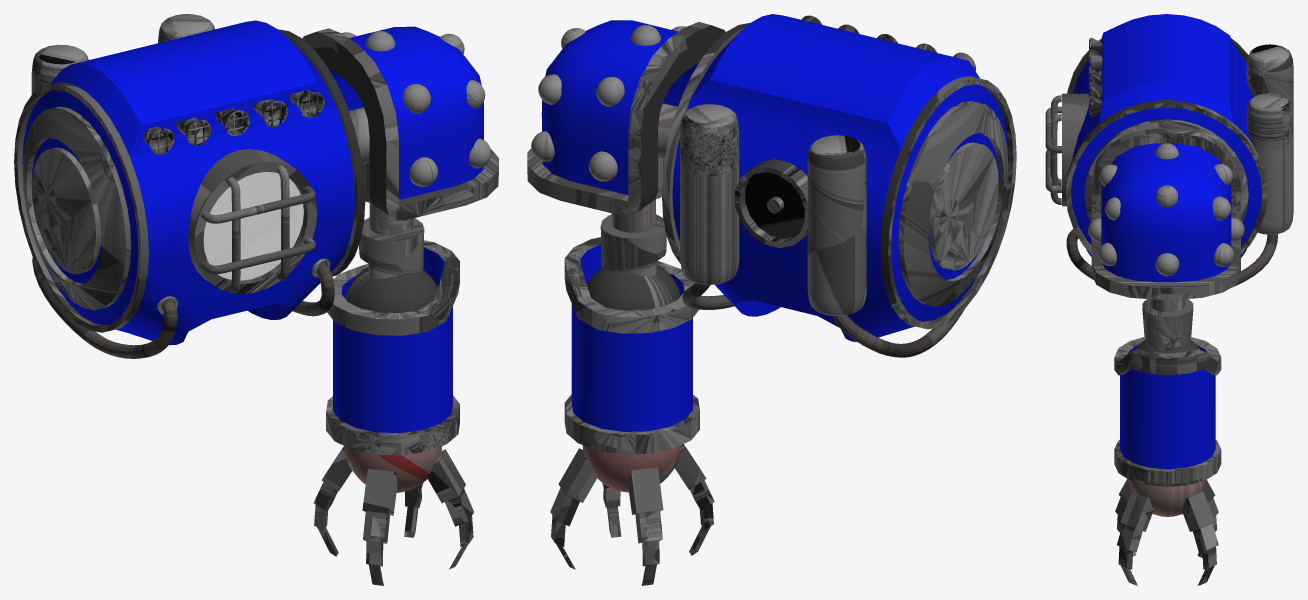
File: GarbageCanTop.fbx
3 renders of one model, left to right at view 1: azimuth 30°, elevation 25°; view 2: azimuth 150°, elevation 25°; view 3: azimuth 270°, elevation 25°, orthographic. The views are drawn at different scales.
Visible parts, largest first — view 1: Body, L.Shoulder, L.Wrist, Viewport, Viewport Bars, L.Elbow, L.Finger2, R.Cable, L.Palm, L.Finger1, L.Finger3, R.Tank (+5 smaller); view 2: Body, L.Shoulder, L.Wrist, R.Tank, L.Tank, PressureGauge, L.Elbow, L.Finger3, L.Palm, L.Finger4, R.Cable, L.Finger2 (+4 smaller); view 3: L.Shoulder, Body, L.Wrist, L.Tank, R.Tank, L.Elbow, L.Finger4, L.Finger1, Viewport, L.Palm, Viewport Bars, L.Cable (+3 smaller).
Boxes of the visible parts, x1=… form: Body: x1=14, y1=20, x2=365, y2=345; L.Shoulder: x1=302, y1=26, x2=498, y2=220; L.Wrist: x1=326, y1=240, x2=459, y2=455; Viewport: x1=188, y1=149, x2=317, y2=293; Viewport Bars: x1=200, y1=165, x2=315, y2=292; L.Elbow: x1=359, y1=217, x2=424, y2=278; L.Finger2: x1=362, y1=468, x2=397, y2=585; R.Cable: x1=32, y1=257, x2=177, y2=358; L.Palm: x1=344, y1=446, x2=442, y2=492; L.Finger1: x1=427, y1=449, x2=473, y2=569; L.Finger3: x1=313, y1=446, x2=352, y2=556; R.Tank: x1=31, y1=44, x2=88, y2=94; Body: x1=662, y1=14, x2=1016, y2=341; L.Shoulder: x1=527, y1=20, x2=725, y2=215; L.Wrist: x1=564, y1=237, x2=699, y2=454; R.Tank: x1=807, y1=135, x2=866, y2=315; L.Tank: x1=680, y1=104, x2=739, y2=284; PressureGauge: x1=735, y1=159, x2=807, y2=247; L.Elbow: x1=600, y1=214, x2=666, y2=276; L.Finger3: x1=628, y1=467, x2=663, y2=585; L.Palm: x1=582, y1=445, x2=681, y2=492; L.Finger4: x1=550, y1=448, x2=597, y2=569; R.Cable: x1=832, y1=309, x2=964, y2=357; L.Finger2: x1=675, y1=444, x2=714, y2=555; L.Shoulder: x1=1088, y1=128, x2=1244, y2=299; Body: x1=1065, y1=14, x2=1267, y2=257; L.Wrist: x1=1114, y1=337, x2=1221, y2=486; L.Tank: x1=1246, y1=93, x2=1293, y2=234; R.Tank: x1=1246, y1=44, x2=1293, y2=113; L.Elbow: x1=1142, y1=299, x2=1193, y2=350; L.Finger4: x1=1181, y1=491, x2=1218, y2=585; L.Finger1: x1=1117, y1=491, x2=1153, y2=585; Viewport: x1=1062, y1=93, x2=1088, y2=206; L.Palm: x1=1128, y1=479, x2=1206, y2=516; Viewport Bars: x1=1045, y1=95, x2=1061, y2=204; L.Cable: x1=1066, y1=229, x2=1277, y2=287.
Bounding box in the file's own units: 1115 × 1430 × 724.
